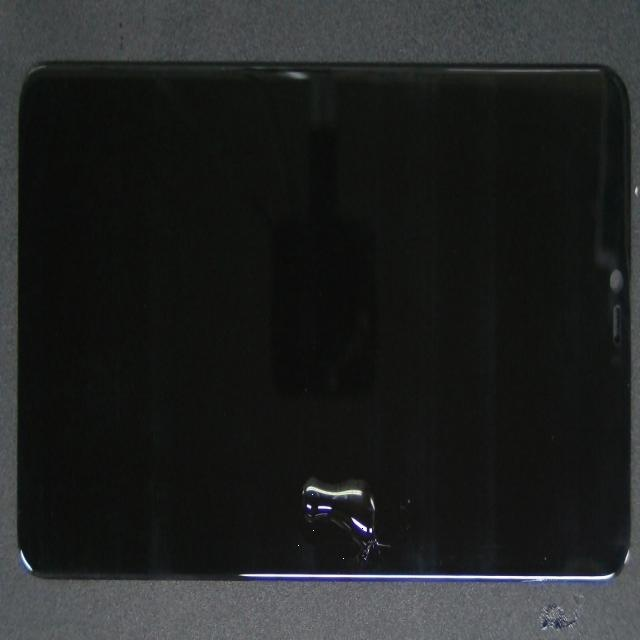oil: (154, 210, 452, 640)
